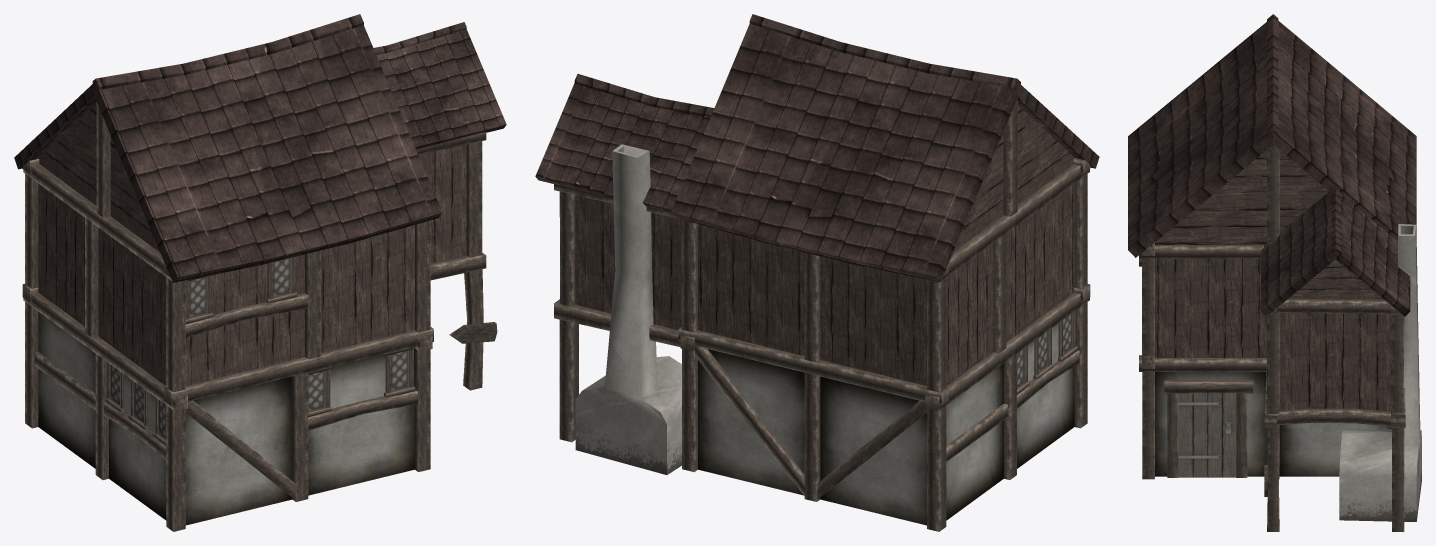
File: Bakery.fbx
3 views of the same model, side by side, from view 1: azimuth 30°, elevation 25°; view 2: azimuth 150°, elevation 25°; view 3: azimuth 270°, elevation 25° (orthographic). The views are drawn at different scales.
Visible parts, largest first — view 1: bakery; view 2: bakery; view 3: bakery.
Part boxes in pixels (left/top/right/bottom): bakery: left=14, top=14, right=506, bottom=531; bakery: left=535, top=14, right=1099, bottom=531; bakery: left=1128, top=14, right=1421, bottom=531.
Bounding box in the file's own units: 662 × 624 × 471.
